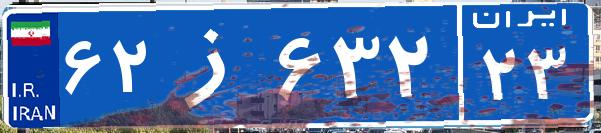2: (385, 28, 445, 110), (475, 38, 525, 113), (110, 28, 158, 105)
3: (330, 28, 385, 110), (525, 38, 570, 115)
6: (273, 28, 330, 110), (57, 26, 110, 107)
ز: (158, 15, 273, 115)
